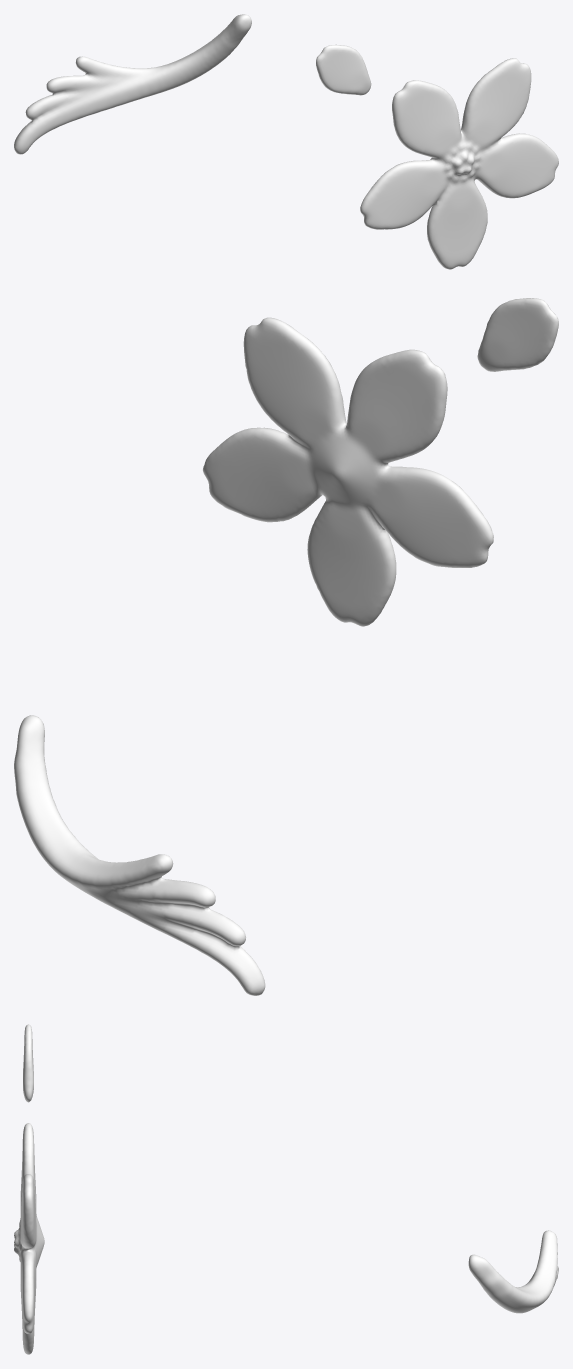
Rendered from announcement right flourishes.glb.
The picture shows the model from 3 angles, top to bottom: view 1: azimuth 30°, elevation 25°; view 2: azimuth 150°, elevation 25°; view 3: azimuth 270°, elevation 25°; orthographic projection. The views are drawn at different scales.
Parts seen in each view (by area): view 1: Announcement; view 2: Announcement; view 3: Announcement.
Boxes of the visible parts, box(x1,y1,x2,y2) form: Announcement: box(14, 14, 558, 269); Announcement: box(14, 298, 558, 995); Announcement: box(14, 1024, 558, 1354).
Size of the model in its own units: 143 by 130 by 224.
Materials: 1 (1 with a texture image).
